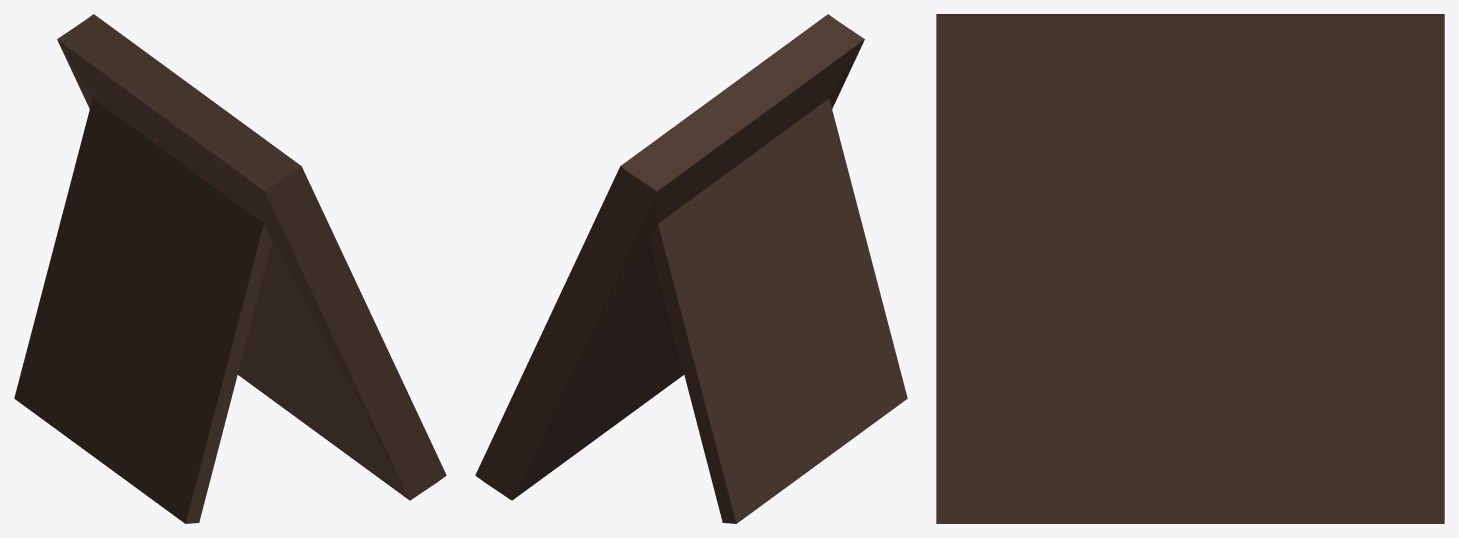
Rendered from photoframe.glb.
3 renders of one model, left to right at view 1: azimuth 30°, elevation 25°; view 2: azimuth 150°, elevation 25°; view 3: azimuth 270°, elevation 25°, orthographic. The views are drawn at different scales.
Parts seen in each view (by area): view 1: pCube17; view 2: pCube17; view 3: pCube17.
Part boxes in pixels (x1,y1,x2,y2): pCube17: (14, 14, 446, 523); pCube17: (475, 14, 907, 523); pCube17: (936, 14, 1444, 523).
Size of the model in its own units: 0.2495 by 0.3542 by 0.3698.
Materials: 1 (1 with a texture image).
